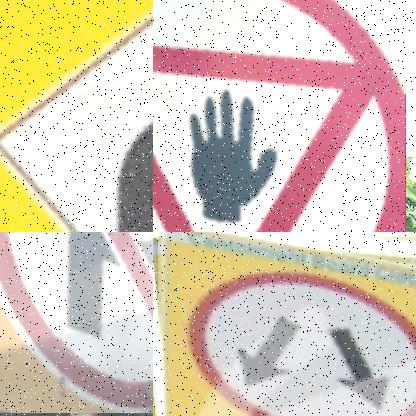No Parking: (0, 232, 153, 413)
Right bend: (0, 0, 153, 232)
Road Divides: (160, 232, 416, 416)
Stop: (153, 0, 404, 232)
